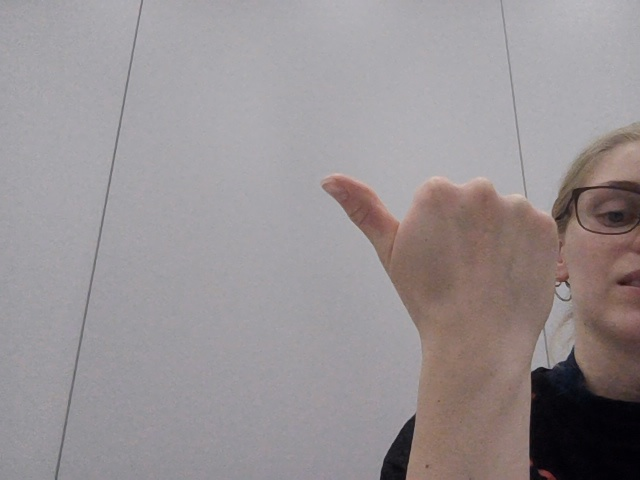right: (275, 120, 563, 408)
